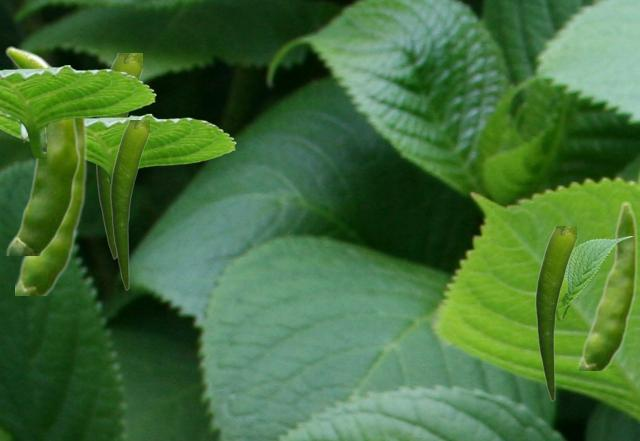green_chili: (4, 45, 80, 254), (15, 119, 87, 294), (579, 200, 637, 369), (95, 53, 141, 258), (535, 226, 575, 400), (110, 120, 148, 289)
